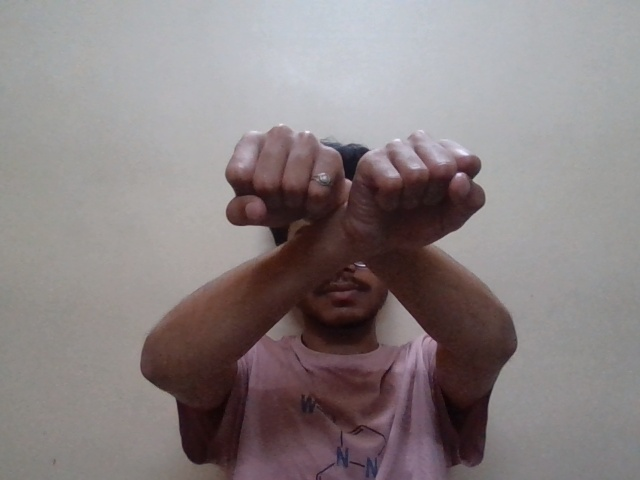work: (225, 126, 497, 272)
